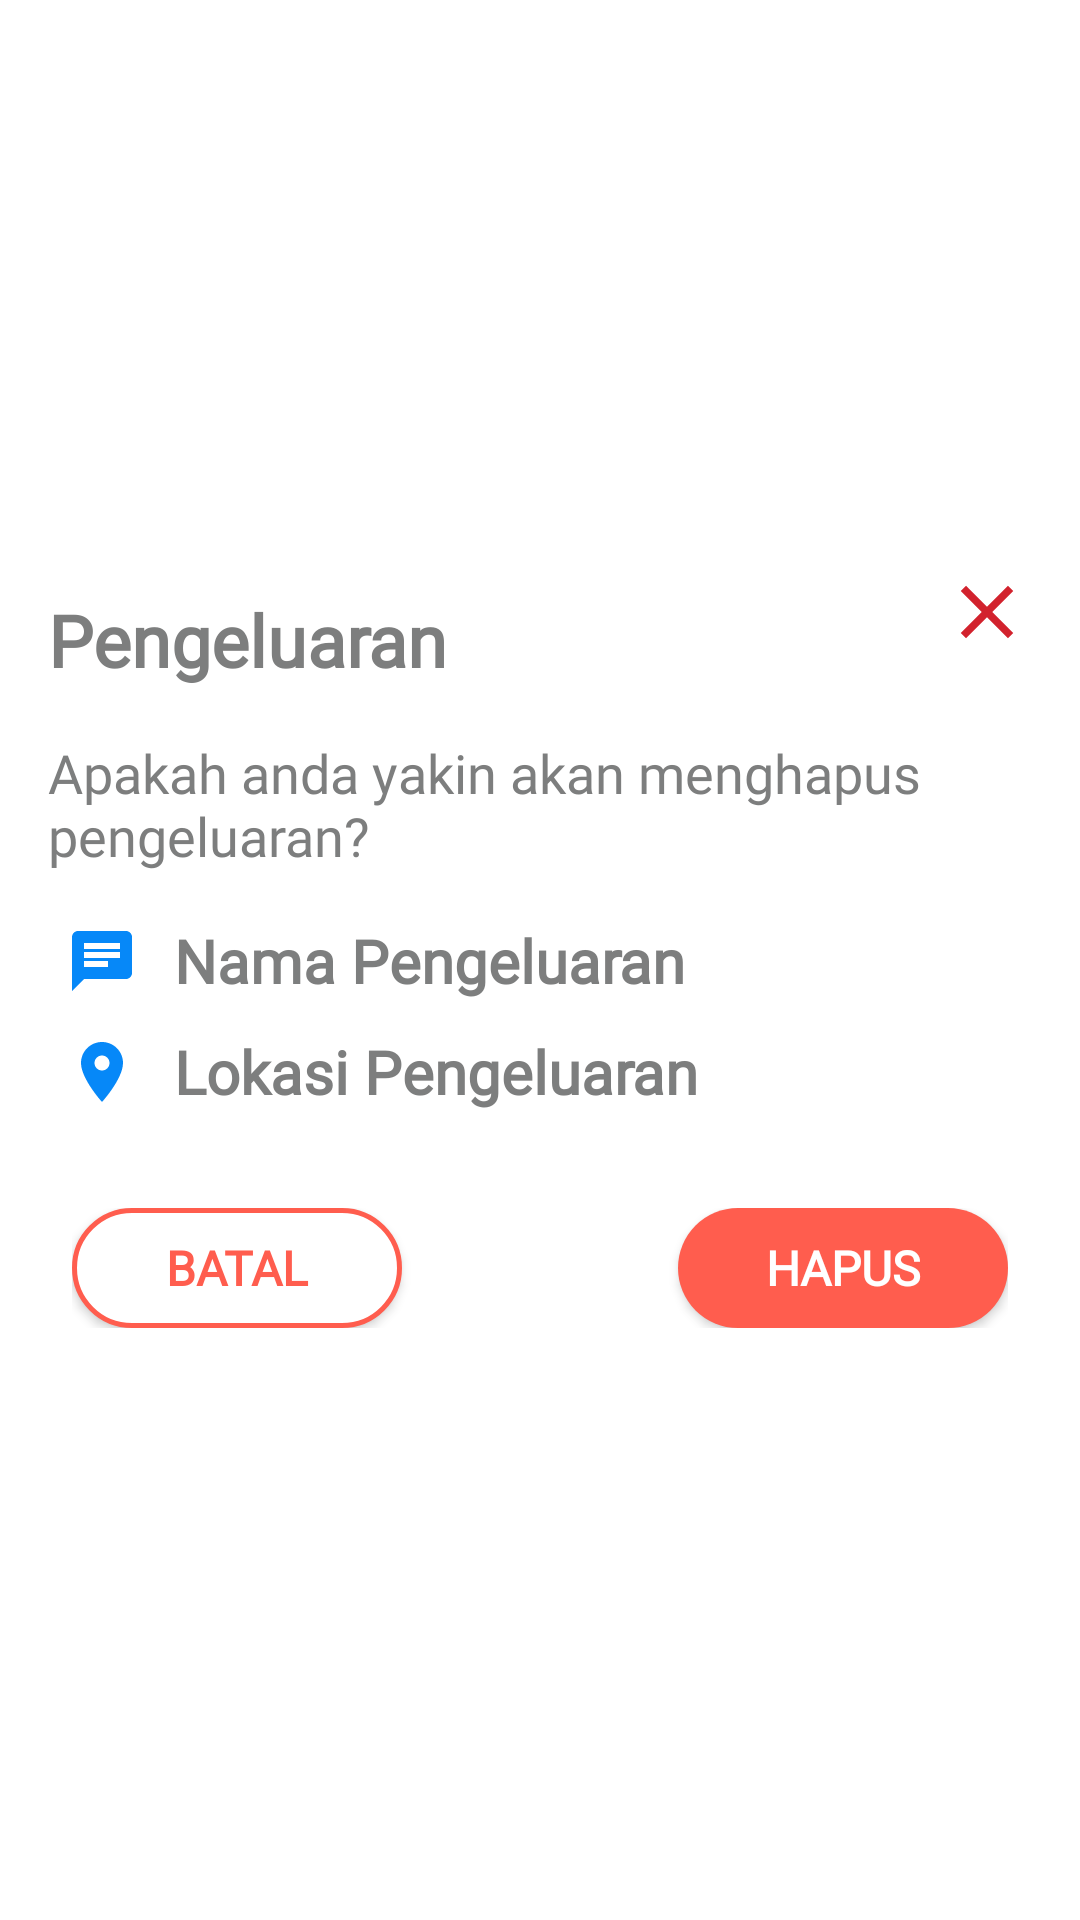

Where to tap for icons on this 1080×1920 app screen, as [x,y]:
chat: [102,961]
close: [987,612]
location form: [102,1072]
